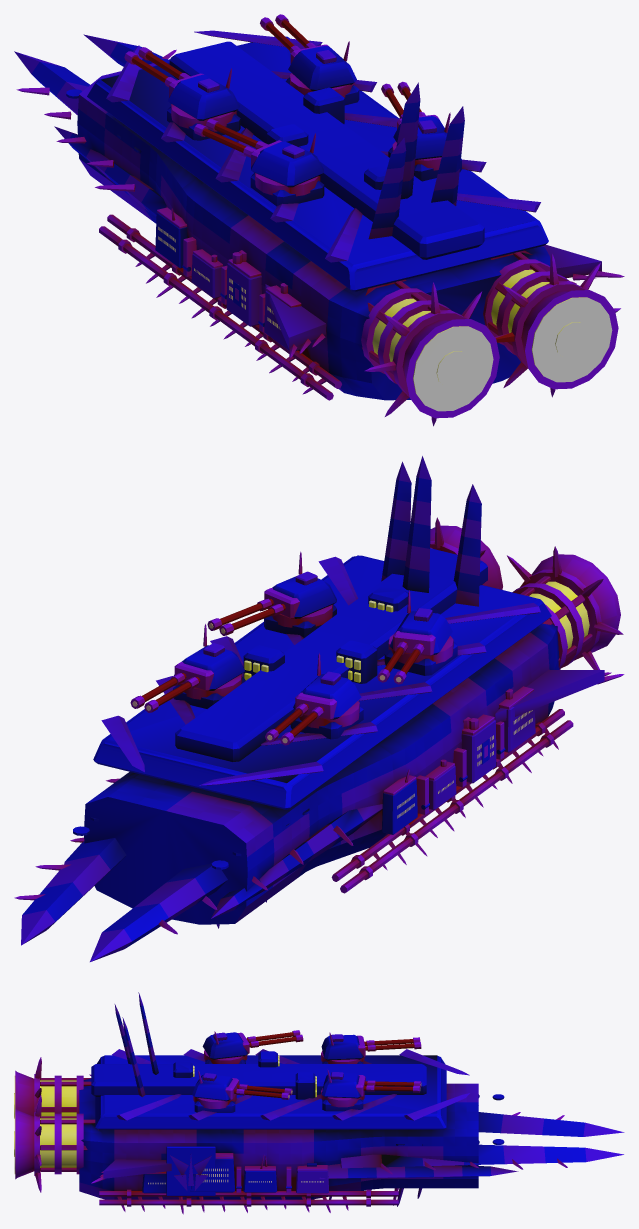
File: pygmaei_skirmish_frigate.fbx
3 views of the same model, one above another, from view 1: azimuth 30°, elevation 25°; view 2: azimuth 150°, elevation 25°; view 3: azimuth 270°, elevation 25° (orthographic). The views are drawn at different scales.
Visible parts, largest first — view 1: pygmaei_skirmish_frigate; view 2: pygmaei_skirmish_frigate; view 3: pygmaei_skirmish_frigate.
Boxes of the visible parts, x1,y1,x2,y2 form: pygmaei_skirmish_frigate: (14,14,624,426); pygmaei_skirmish_frigate: (14,456,624,961); pygmaei_skirmish_frigate: (14,992,624,1214).
Size of the model in its own units: 0.6229 by 0.5785 by 1.49.
